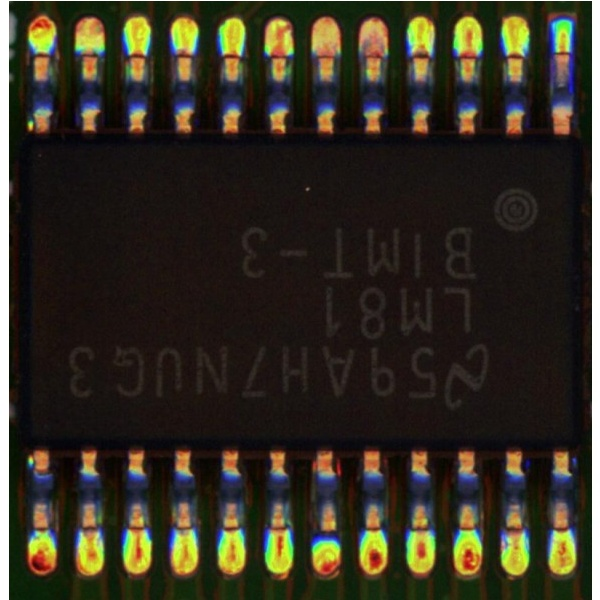Bad_podu: (271, 514, 287, 547), (129, 512, 144, 539), (80, 514, 95, 541), (505, 516, 520, 539), (224, 45, 238, 68), (271, 48, 286, 69), (459, 43, 471, 69), (366, 46, 379, 70), (412, 45, 428, 63), (556, 38, 568, 61), (130, 44, 143, 65), (318, 46, 331, 66), (176, 44, 189, 64)
